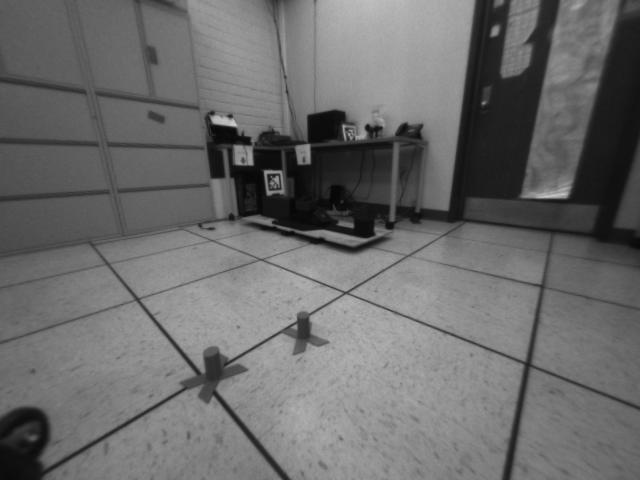X: (178, 343, 250, 406), (280, 310, 330, 355)
